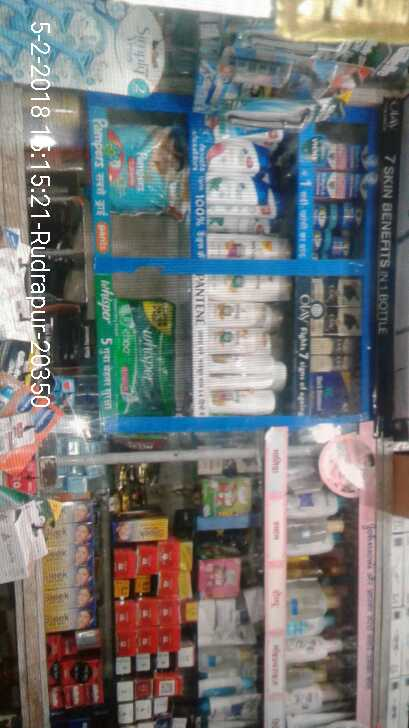vicks: (314, 131, 373, 264)
